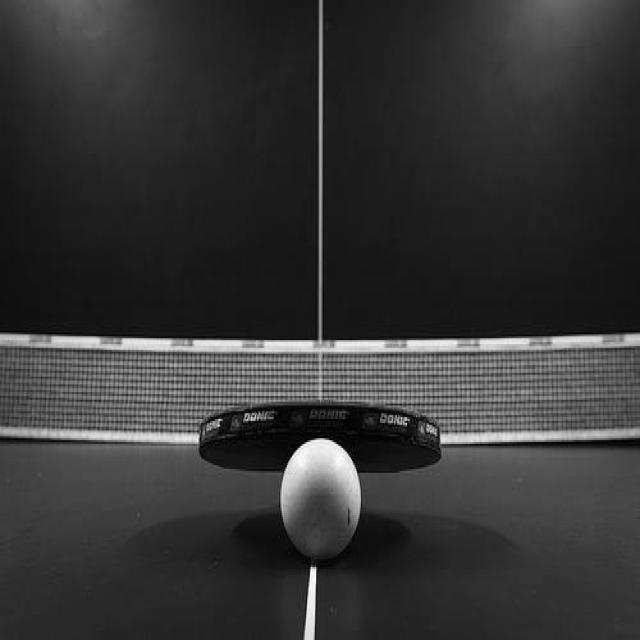ping-pong-ball: (279, 437, 362, 560)
